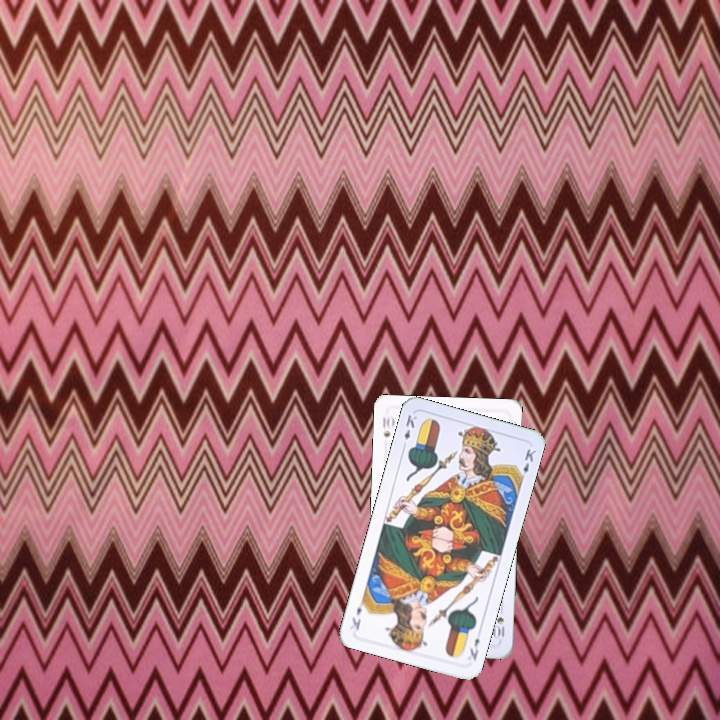EK: (398, 411, 419, 451), (466, 634, 482, 663)
S10: (490, 602, 508, 643), (379, 412, 396, 440)
